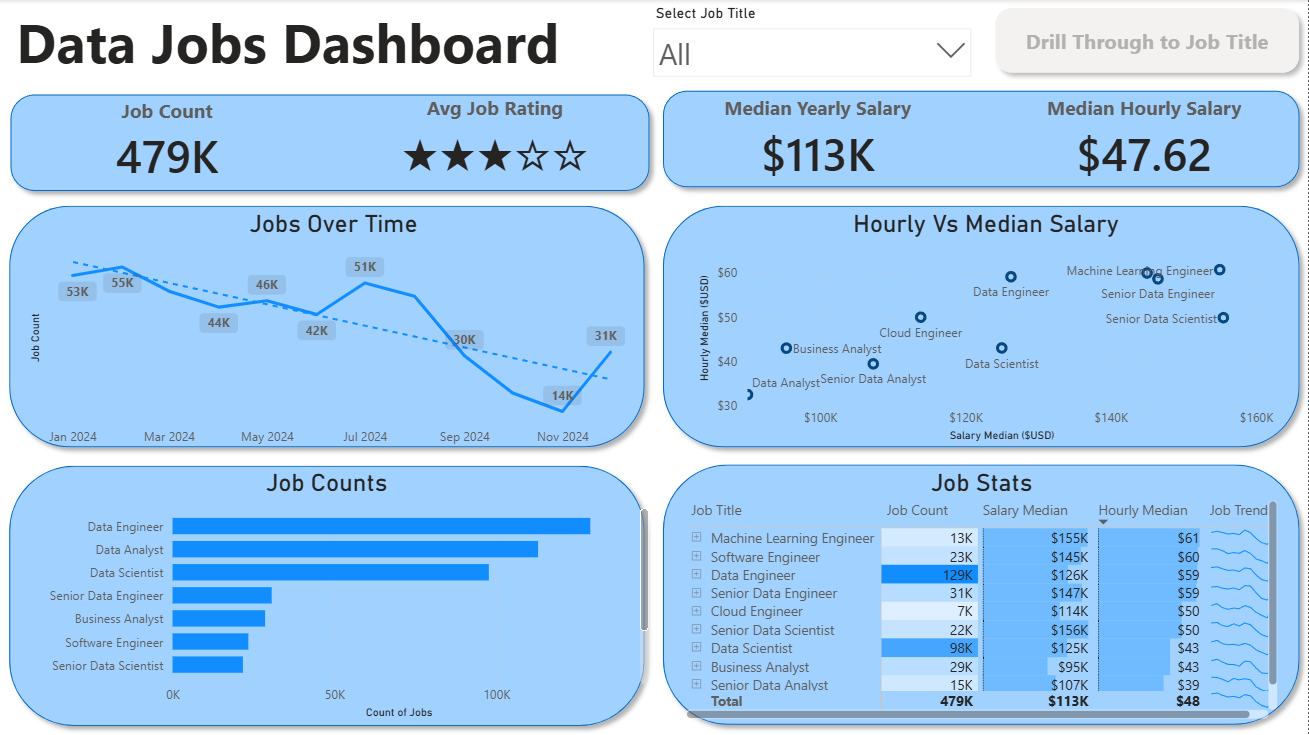

The page's visual inventory and layout, read from the dashboard file:
{"tool":"powerbi","page":{"name":"Data Jobs DashBoard","canvas":[1280,720],"ordinal":0},"visuals":[{"type":"group","id":"g1","title":"Background","box":[0,80.7,1280.3,639.5],"z":0},{"type":"shape","box":[1.2,84.4,643.2,112.5],"z":0,"group":"g1"},{"type":"textbox","box":[11,0,628.5,83.2],"z":1000},{"type":"shape","box":[639.5,80.7,640.8,112.5],"z":1000,"group":"g1"},{"type":"slicer","fields":{"Values":["job_postings_flat.job_title_short"]},"box":[628.5,0,331.4,83.2],"z":2000},{"type":"shape","box":[0,193.2,639.5,254.3],"z":2000,"group":"g1"},{"type":"cardVisual","fields":{"Data":["Median(job_postings_flat.salary_year_avg)"]},"box":[639.5,79.5,321.6,114.9],"z":3000},{"type":"shape","box":[639.5,193.2,640.8,254.3],"z":3000,"group":"g1"},{"type":"cardVisual","fields":{"Data":["Median(job_postings_flat.salary_hour_avg)"]},"box":[959.9,79.5,319.2,114.9],"z":4000},{"type":"shape","box":[0,447.5,639.5,272.7],"z":4000,"group":"g1"},{"type":"cardVisual","fields":{"Data":["CountNonNull(job_postings_flat.job_title_short)"]},"box":[0,83.2,327.7,111.3],"z":5000},{"type":"shape","box":[639.5,446.3,640.8,272.7],"z":5000,"group":"g1"},{"type":"cardVisual","fields":{"Data":["job_postings_flat.Salary Star Rating"]},"box":[327.7,79.5,313,114.9],"z":6000},{"type":"lineChart","title":"Jobs Over Time","fields":{"Category":["job_postings_flat.job_posted_date.Variation.Date Hierarchy.Year","job_postings_flat.job_posted_date.Variation.Date Hierarchy.Quarter","job_postings_flat.job_posted_date.Variation.Date Hierarchy.Month","job_postings_flat.job_posted_date.Variation.Date Hierarchy.Day"],"Y":["CountNonNull(job_postings_flat.job_title_short)"]},"box":[24.5,205.4,604.1,240.9],"z":7000},{"type":"barChart","title":"Job Counts","fields":{"Category":["job_postings_flat.job_title_short"],"Y":["CountNonNull(job_postings_flat.job_title_short)"]},"box":[0,458.6,639.5,250.7],"z":8000},{"type":"scatterChart","title":"Hourly Vs Median Salary","fields":{"X":["Median(job_postings_flat.salary_year_avg)"],"Y":["Median(job_postings_flat.salary_hour_avg)"],"Series":["job_postings_flat.job_title_short"]},"box":[678.7,205.4,572.3,232.3],"z":9000},{"type":"pivotTable","title":"Job Stats","fields":{"Rows":["job_postings_flat.job_title_short","job_postings_flat.job_posted_date.Variation.Date Hierarchy.Quarter"],"Values":["CountNonNull(job_postings_flat.job_title_short)","Median(job_postings_flat.salary_year_avg)","Median(job_postings_flat.salary_hour_avg)","SparklineData(CountNonNull(job_postings_flat.job_title_short)_[job_postings_flat.job_posted_date.Variation.Date Hierarch"]},"box":[666.4,458.6,588.2,250.7],"z":10000},{"type":"actionButton","box":[964.6,0,314.8,80.9],"z":11000}]}

Visuals, with their boxes in screenshot pixels (x1, y1, x2, y2), scaled from the page's 1280x720 canvas onto the 1309x735 screenshot:
"Background" group: l=0, t=82, r=1308, b=734
shape: l=1, t=86, r=659, b=201
textbox: l=11, t=0, r=654, b=85
shape: l=654, t=82, r=1308, b=197
slicer - job_postings_flat.job_title_short: l=643, t=0, r=982, b=85
shape: l=0, t=197, r=654, b=457
cardVisual - Median(job_postings_flat.salary_year_avg): l=654, t=81, r=983, b=198
shape: l=654, t=197, r=1308, b=457
cardVisual - Median(job_postings_flat.salary_hour_avg): l=982, t=81, r=1308, b=198
shape: l=0, t=457, r=654, b=734
cardVisual - CountNonNull(job_postings_flat.job_title_short): l=0, t=85, r=335, b=199
shape: l=654, t=456, r=1308, b=734
cardVisual - job_postings_flat.Salary Star Rating: l=335, t=81, r=655, b=198
"Jobs Over Time" lineChart: l=25, t=210, r=643, b=456
"Job Counts" barChart: l=0, t=468, r=654, b=724
"Hourly Vs Median Salary" scatterChart: l=694, t=210, r=1279, b=447
"Job Stats" pivotTable: l=681, t=468, r=1283, b=724
actionButton: l=986, t=0, r=1308, b=83
